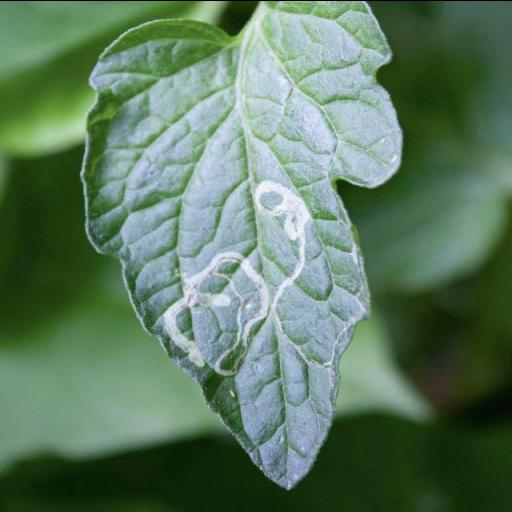disease_tomato: (78, 0, 400, 489)
